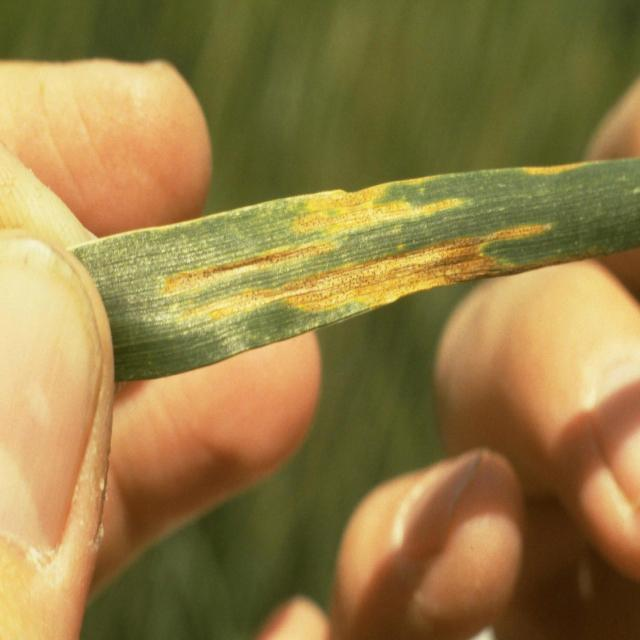wheat-septoria: (71, 156, 639, 382)
